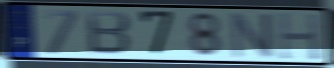7: (137, 9, 175, 59), (42, 9, 79, 55)
8: (185, 11, 223, 58)
B: (84, 9, 133, 57)
H: (276, 11, 323, 62)
N: (229, 11, 276, 60)
